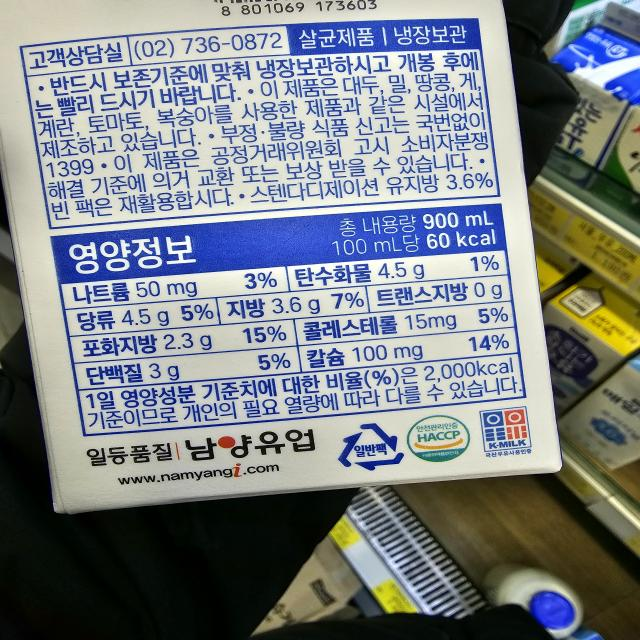NormalPack: (336, 422, 405, 472)
